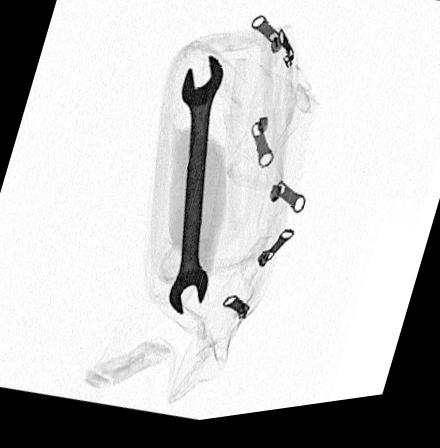Wrench: (170, 61, 223, 319)
